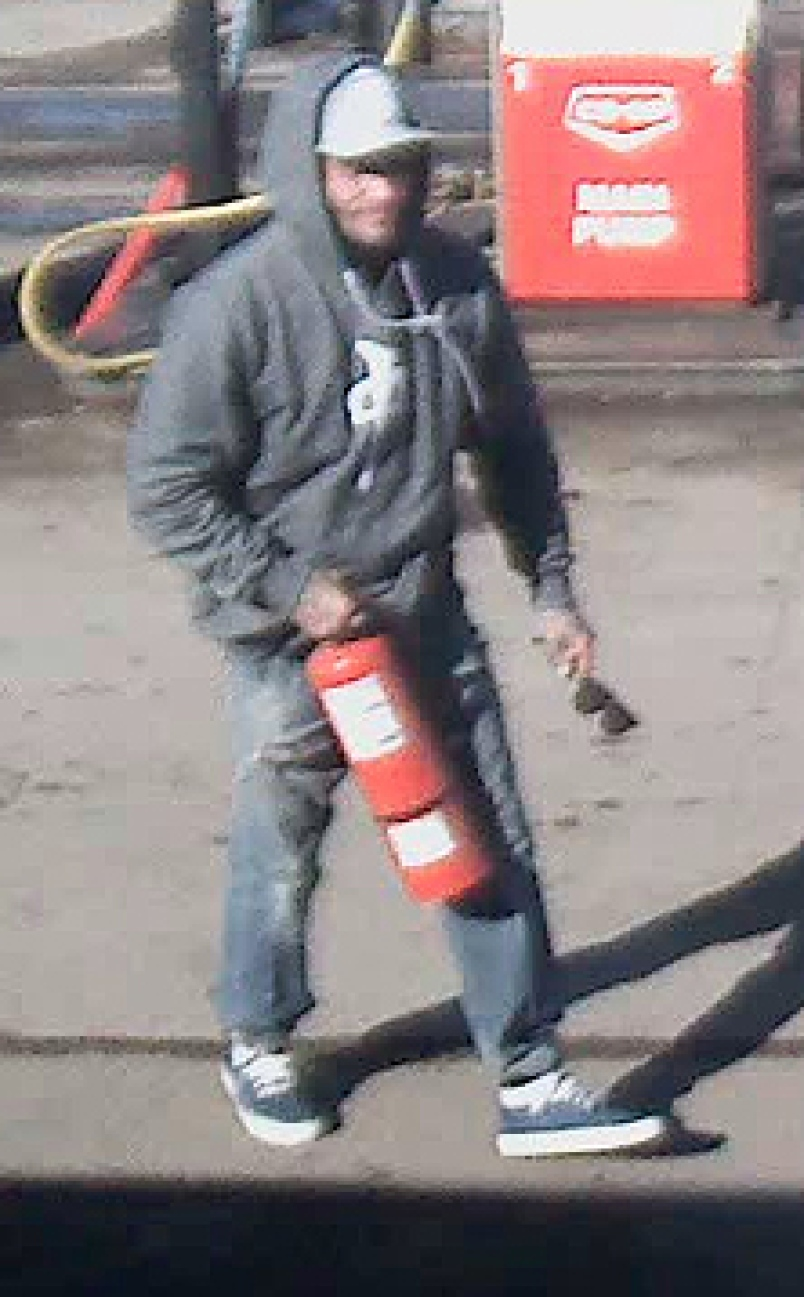person: (76, 23, 717, 1183)
